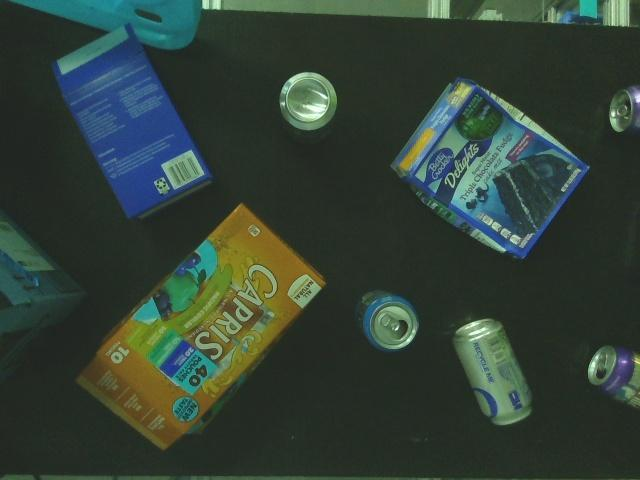cardboard: (71, 200, 327, 454), (385, 72, 590, 267), (46, 19, 220, 228), (0, 203, 85, 399)
metal: (449, 312, 536, 430), (348, 284, 427, 358), (279, 65, 339, 135), (587, 343, 640, 416), (605, 81, 640, 144)
